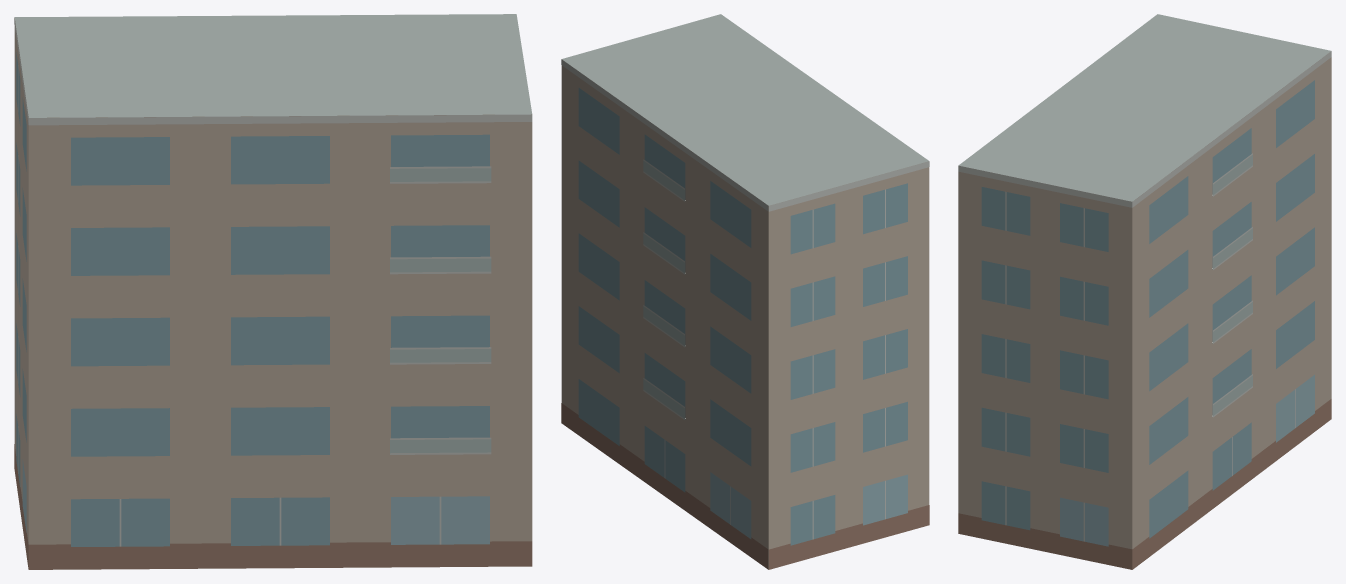
Rendered from survey-upis-32659888.glb.
3 views of the same model, side by side, from view 1: azimuth 30°, elevation 25°; view 2: azimuth 150°, elevation 25°; view 3: azimuth 270°, elevation 25° (orthographic). The views are drawn at different scales.
Visible parts, largest first — view 1: survey-upis-32659888.tmp; view 2: survey-upis-32659888.tmp; view 3: survey-upis-32659888.tmp.
Boxes of the visible parts, box(x1,y1,x2,y2) form: survey-upis-32659888.tmp: box(14, 14, 532, 569); survey-upis-32659888.tmp: box(561, 14, 929, 569); survey-upis-32659888.tmp: box(958, 14, 1331, 569).
Size of the model in its own units: 16.2 by 14.8 by 13.61.
